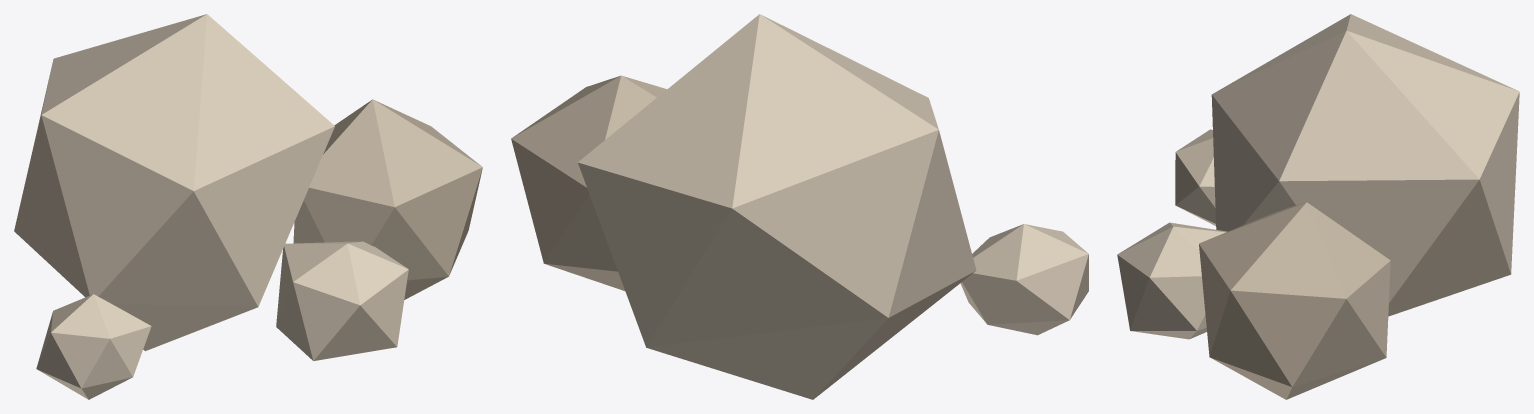
Rendered from rock_cluster.glb.
The picture shows the model from 3 angles, left to right: view 1: azimuth 30°, elevation 25°; view 2: azimuth 150°, elevation 25°; view 3: azimuth 270°, elevation 25°; orthographic projection. The views are drawn at different scales.
Parts seen in each view (by area): view 1: rock_cluster; view 2: rock_cluster; view 3: rock_cluster.
Part boxes in pixels (<box>): rock_cluster: <box>14,14,482,399</box>; rock_cluster: <box>511,14,1088,399</box>; rock_cluster: <box>1117,14,1519,399</box>.
Size of the model in its own units: 1.91 by 1.3 by 1.49.
